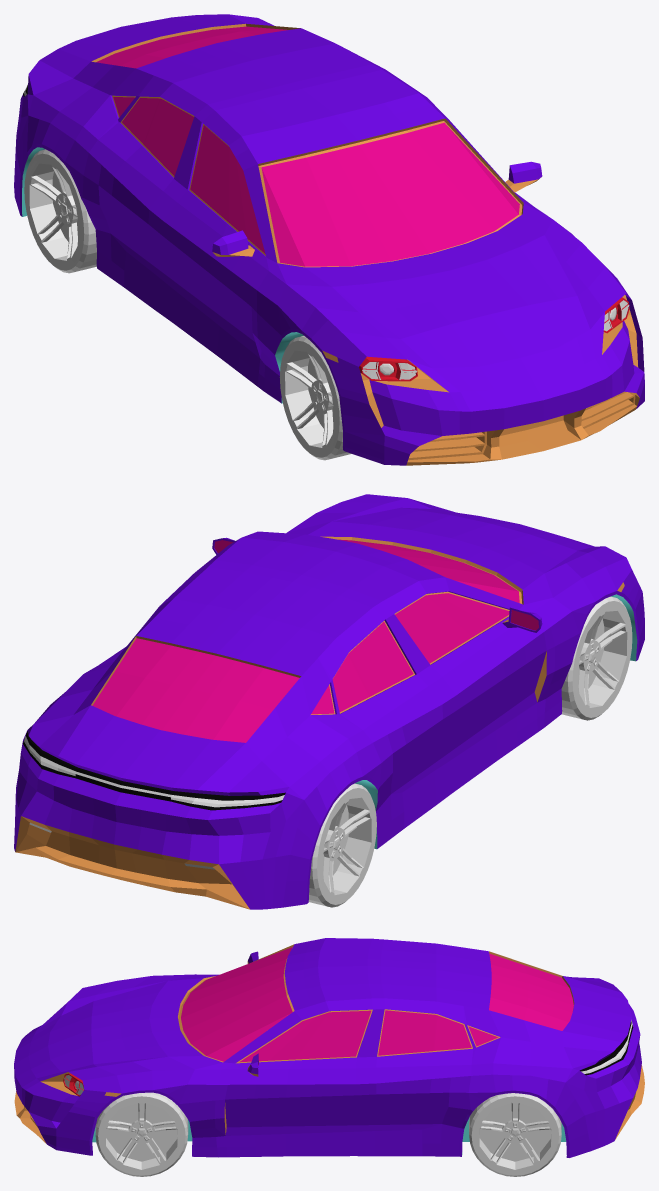
File: Car_3_Electric.fbx
3 views of the same model, one above another, from view 1: azimuth 30°, elevation 25°; view 2: azimuth 150°, elevation 25°; view 3: azimuth 270°, elevation 25° (orthographic). The views are drawn at different scales.
Parts seen in each view (by area): view 1: Car_3_Body_Electric, Car_3_Wheel_RR, Car_3_Wheel_FR; view 2: Car_3_Body_Electric, Car_3_Wheel_FR, Car_3_Wheel_RR; view 3: Car_3_Body_Electric, Car_3_Wheel_FL, Car_3_Wheel_RL.
Part boxes in pixels (x1,y1,x2,y2): Car_3_Body_Electric: [14, 14, 644, 465]; Car_3_Wheel_RR: [24, 149, 96, 273]; Car_3_Wheel_FR: [279, 336, 351, 460]; Car_3_Body_Electric: [14, 494, 644, 909]; Car_3_Wheel_FR: [561, 596, 632, 720]; Car_3_Wheel_RR: [308, 783, 376, 907]; Car_3_Body_Electric: [14, 938, 644, 1157]; Car_3_Wheel_FL: [95, 1092, 188, 1176]; Car_3_Wheel_RL: [469, 1093, 561, 1176].
Bounding box in the file's own units: 207 × 132 × 471.
